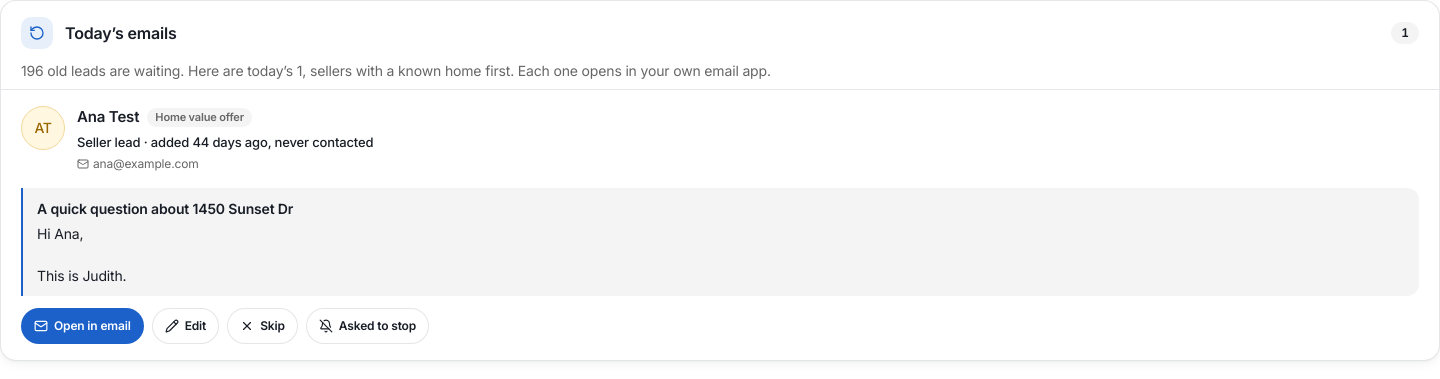
Test case: ReviveLeads › opens the email first, then logs it only on Mark sent
The width and height of the screenshot is (1440, 379).
Expected: the text "196 old leads are waiting" is shown, [21,62,771,79]
Click the link "Open in email" at point(82, 326), box [21,308,144,344]
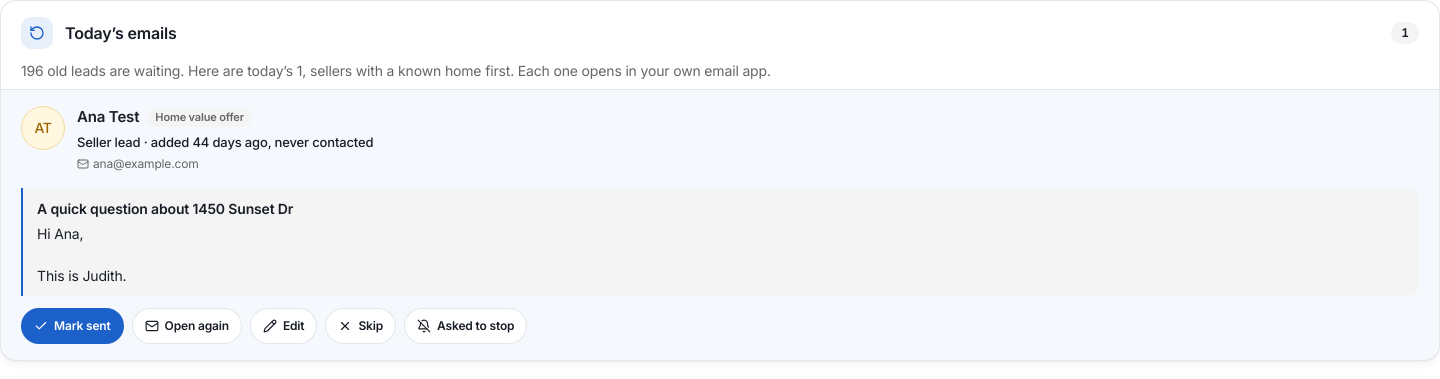
Click the button "Mark sent" at point(72, 326), box [21,308,124,344]
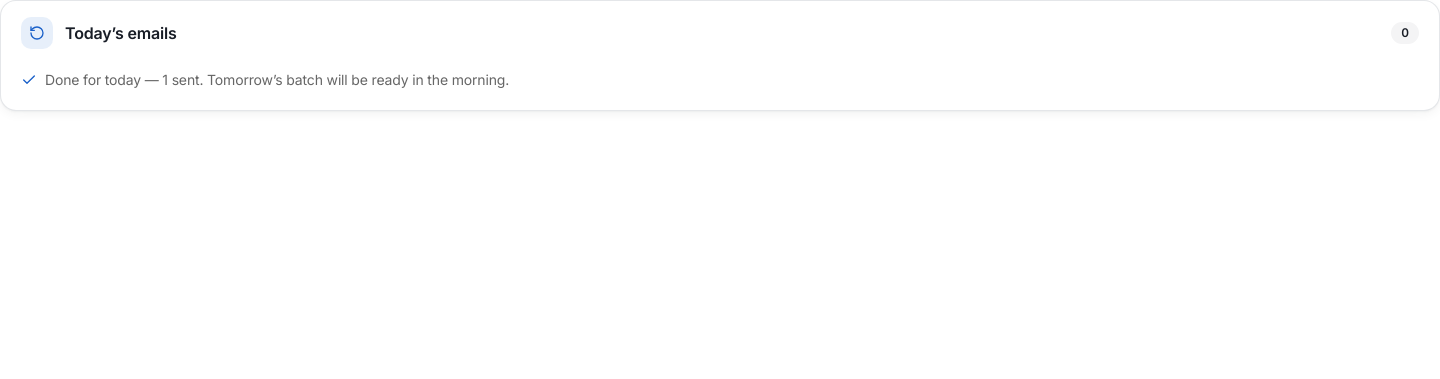
Result: the message shows "1 sent" at [45,71,509,88]
